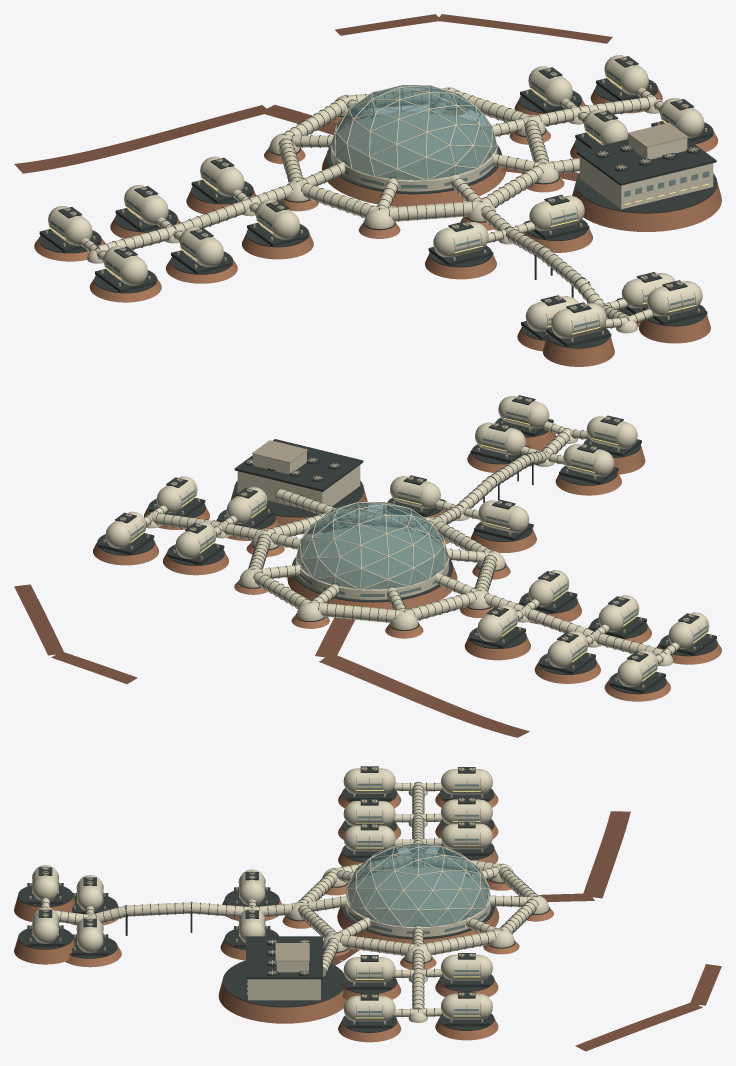
File: EVA03-campus.glb
3 renders of one model, top to bottom at view 1: azimuth 30°, elevation 25°; view 2: azimuth 150°, elevation 25°; view 3: azimuth 270°, elevation 25°, orthographic. The views are drawn at different scales.
Parts seen in each view (by area): view 1: EVA03 · radial settlement; view 2: EVA03 · radial settlement; view 3: EVA03 · radial settlement.
Boxes of the visible parts, x1,y1,x2,y2 form: EVA03 · radial settlement: [14, 14, 721, 366]; EVA03 · radial settlement: [14, 395, 721, 737]; EVA03 · radial settlement: [14, 766, 721, 1051].
Size of the model in its own units: 160 by 22.49 by 175.
